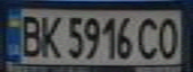1: (100, 15, 118, 60)
5: (63, 12, 84, 59)
6: (115, 14, 139, 61)
9: (81, 13, 103, 60)
B: (15, 11, 45, 58)
C: (136, 15, 163, 61)
K: (36, 11, 63, 58)
O: (154, 13, 184, 60)
